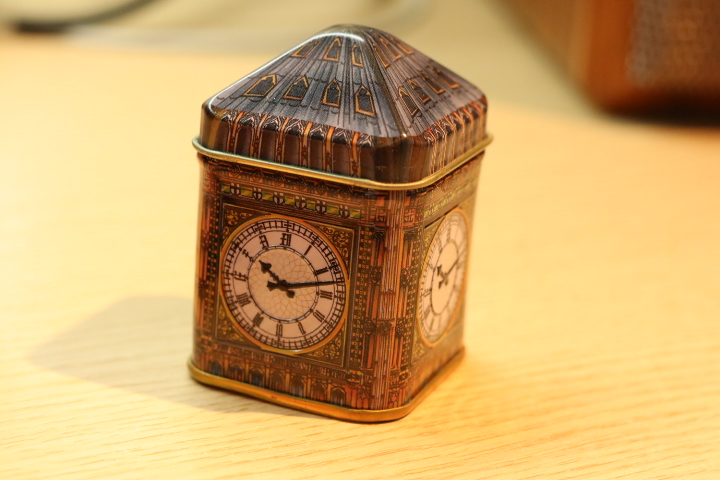Big Ben: (173, 15, 507, 441)
